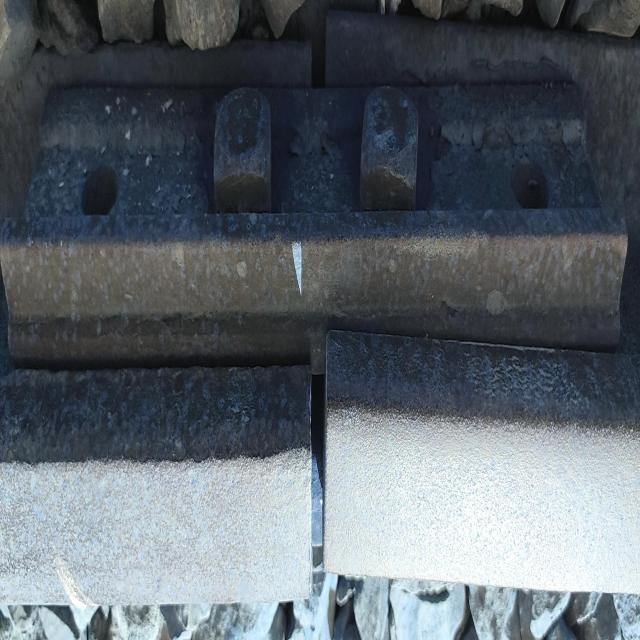Defective Joint: (0, 74, 630, 464)
